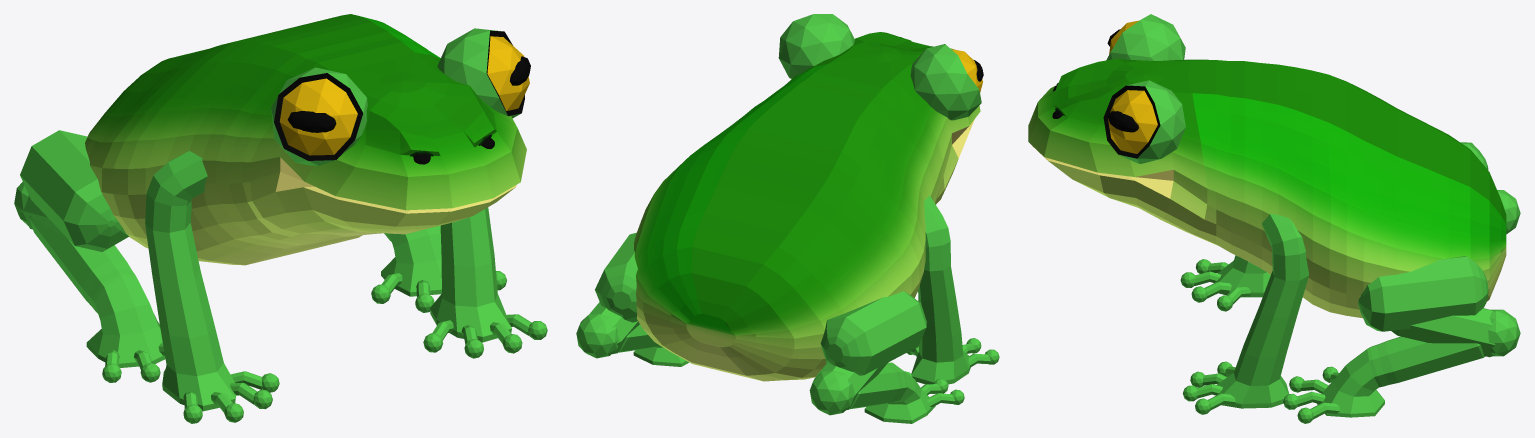
Rendered from Rana.glb.
3 views of the same model, side by side, from view 1: azimuth 30°, elevation 25°; view 2: azimuth 150°, elevation 25°; view 3: azimuth 270°, elevation 25° (orthographic). The views are drawn at different scales.
Parts seen in each view (by area): view 1: Sphere.003, Cylinder.006, Cylinder.017, Cylinder.015, Cylinder, Icosphere.001, Icosphere.025, Cylinder.004, Icosphere.003, Cylinder.016; view 2: Sphere.003, Cylinder.006, Cylinder.015, Icosphere.001, Icosphere.025, Cylinder.017, Cylinder.002, Icosphere.023, Icosphere, Cylinder.004, Cylinder.003, Cylinder.016; view 3: Sphere.003, Cylinder, Cylinder.002, Cylinder.004, Icosphere.025, Icosphere.001, Cylinder.003, Cylinder.006, Icosphere, Icosphere.023, Icosphere.002.
Boxes of the visible parts, bbox=[...] form: Sphere.003: bbox=[85, 14, 526, 265]; Cylinder.006: bbox=[145, 151, 236, 411]; Cylinder.017: bbox=[29, 216, 165, 367]; Cylinder.015: bbox=[20, 130, 128, 251]; Cylinder: bbox=[430, 207, 511, 342]; Icosphere.001: bbox=[271, 67, 367, 165]; Icosphere.025: bbox=[437, 28, 529, 118]; Cylinder.004: bbox=[381, 225, 441, 296]; Icosphere.003: bbox=[287, 111, 336, 132]; Cylinder.016: bbox=[20, 195, 67, 238]; Sphere.003: bbox=[633, 32, 980, 381]; Cylinder.006: bbox=[911, 195, 970, 384]; Cylinder.015: bbox=[820, 291, 926, 375]; Icosphere.001: bbox=[910, 44, 982, 120]; Icosphere.025: bbox=[778, 14, 854, 79]; Cylinder.017: bbox=[849, 362, 935, 423]; Cylinder.002: bbox=[595, 232, 637, 322]; Icosphere.023: bbox=[809, 371, 855, 415]; Icosphere: bbox=[576, 313, 618, 358]; Cylinder.004: bbox=[618, 324, 688, 366]; Cylinder.003: bbox=[589, 302, 639, 354]; Cylinder.016: bbox=[815, 363, 887, 409]; Sphere.003: bbox=[1028, 58, 1506, 318]; Cylinder: bbox=[1216, 214, 1308, 408]; Cylinder.002: bbox=[1358, 256, 1488, 331]; Cylinder.004: bbox=[1316, 336, 1485, 417]; Icosphere.025: bbox=[1103, 80, 1185, 163]; Icosphere.001: bbox=[1106, 14, 1185, 60]; Cylinder.003: bbox=[1391, 308, 1495, 357]; Cylinder.006: bbox=[1214, 255, 1270, 297]; Icosphere: bbox=[1488, 309, 1520, 356]; Icosphere.023: bbox=[1497, 190, 1520, 234]; Icosphere.002: bbox=[1107, 111, 1138, 132].
Bounding box in the file's own units: 0.6094 × 0.5192 × 0.781.
Materials: 7 (1 with a texture image).
